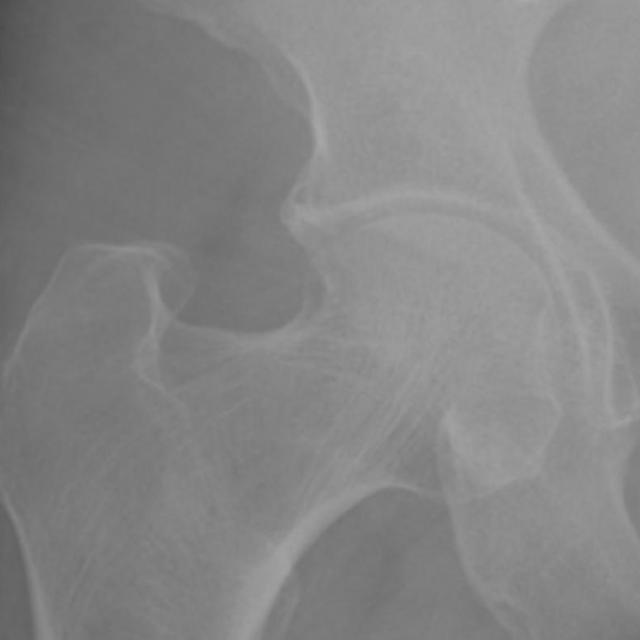Fitted_femural_head: (295, 212, 432, 295)
